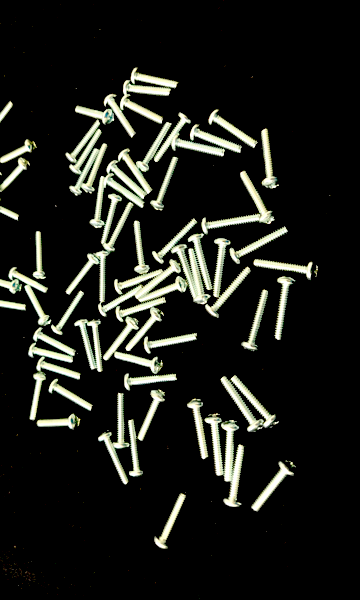longscrew: (229, 373, 282, 431), (251, 457, 300, 514), (205, 265, 253, 321), (220, 376, 266, 434), (230, 226, 291, 265), (239, 169, 279, 226), (208, 108, 261, 151), (153, 111, 194, 166), (152, 218, 199, 265), (155, 491, 189, 552), (241, 289, 272, 355), (134, 259, 182, 301), (124, 307, 167, 353), (136, 121, 173, 174), (97, 429, 131, 486), (189, 123, 246, 157), (253, 257, 321, 284), (47, 378, 98, 414), (102, 316, 141, 362), (137, 389, 170, 443), (149, 156, 180, 213), (117, 148, 154, 195), (106, 160, 148, 201), (170, 244, 199, 303), (102, 202, 134, 255), (51, 290, 87, 337), (104, 93, 139, 141), (98, 283, 144, 319), (187, 232, 215, 291), (201, 213, 269, 237), (66, 120, 102, 165), (104, 172, 146, 210), (186, 247, 213, 306), (69, 146, 99, 199), (223, 443, 247, 509), (260, 127, 284, 191), (70, 128, 102, 176), (65, 252, 99, 297), (274, 276, 297, 342), (115, 296, 169, 324), (171, 133, 229, 159), (186, 398, 210, 460), (120, 94, 168, 125), (81, 142, 109, 195), (115, 267, 165, 296), (143, 331, 199, 356), (33, 327, 79, 357), (221, 419, 242, 484), (22, 284, 53, 328), (139, 276, 187, 304), (205, 412, 225, 478), (74, 318, 98, 371), (0, 157, 34, 194), (130, 66, 180, 91), (8, 266, 51, 295), (100, 193, 123, 247), (126, 418, 146, 480), (35, 357, 84, 382), (212, 238, 232, 299), (123, 372, 181, 393), (114, 351, 164, 375), (112, 391, 131, 451), (86, 319, 107, 373), (28, 342, 76, 365), (0, 138, 40, 165), (27, 372, 48, 422), (94, 249, 113, 303), (133, 219, 151, 274), (89, 176, 107, 230), (122, 80, 175, 98), (75, 104, 116, 126), (36, 413, 83, 432), (32, 230, 48, 281), (0, 196, 23, 223), (0, 100, 15, 141), (0, 294, 29, 313), (0, 275, 24, 296), (0, 171, 4, 216), (0, 162, 2, 204)
